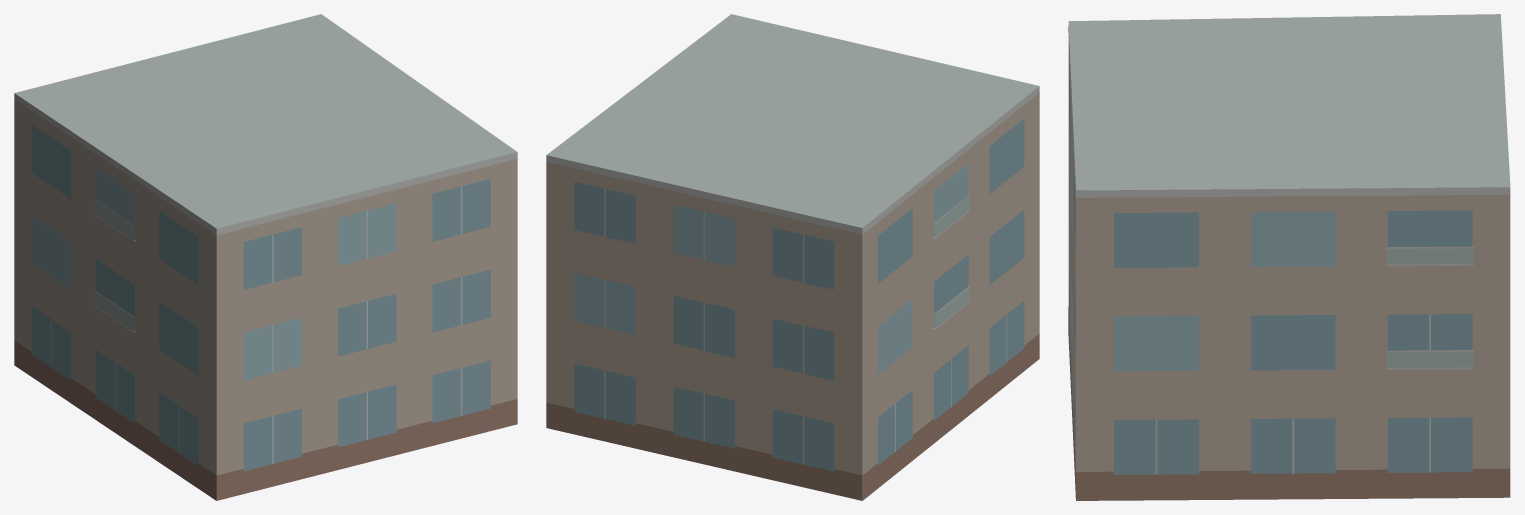
Rendered from survey-upis-32492160.glb.
The picture shows the model from 3 angles, left to right: view 1: azimuth 30°, elevation 25°; view 2: azimuth 150°, elevation 25°; view 3: azimuth 270°, elevation 25°; orthographic projection. The views are drawn at different scales.
Parts seen in each view (by area): view 1: survey-upis-32492160.tmp; view 2: survey-upis-32492160.tmp; view 3: survey-upis-32492160.tmp.
Boxes of the visible parts, box(x1,y1,x2,y2) form: survey-upis-32492160.tmp: box(14, 14, 517, 500); survey-upis-32492160.tmp: box(546, 14, 1039, 500); survey-upis-32492160.tmp: box(1068, 14, 1510, 500).
Bounding box in the file's own units: 12.32 × 10.1 × 13.05.
